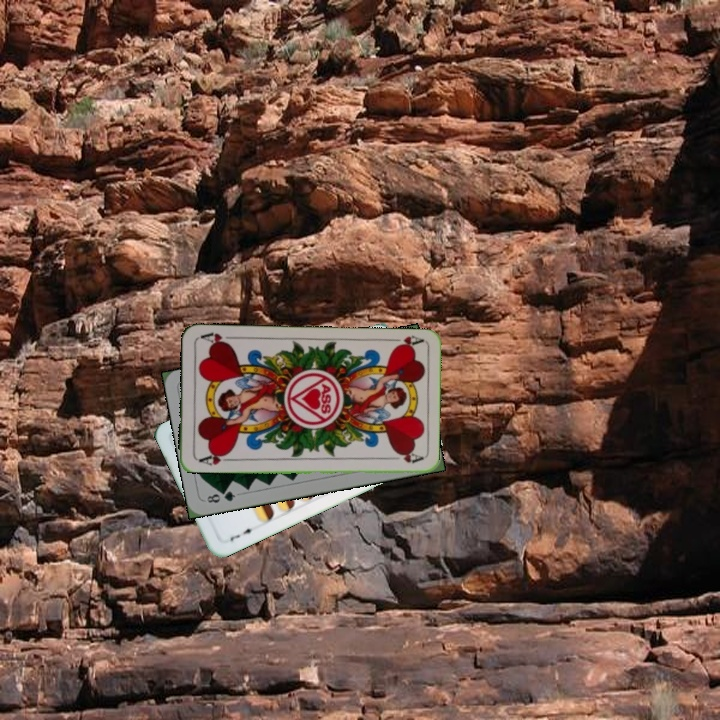E7: (225, 524, 258, 544)
G8: (203, 487, 238, 506)
HA: (194, 448, 234, 468), (385, 332, 425, 352)
